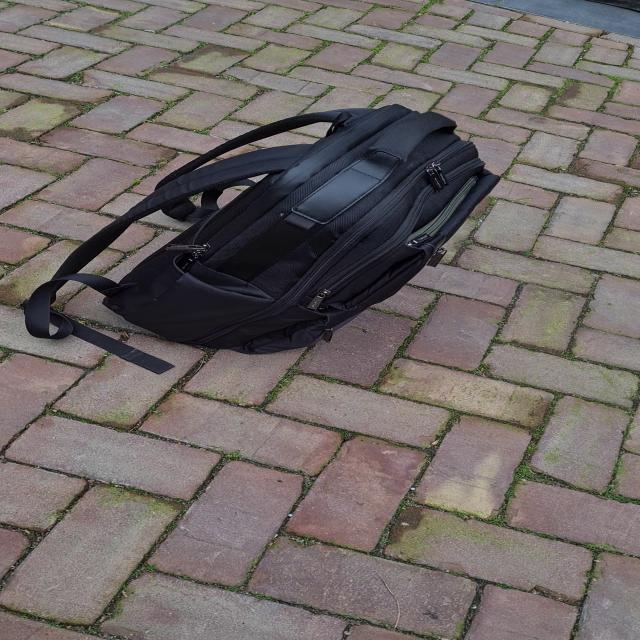backpack: (99, 98, 505, 382)
